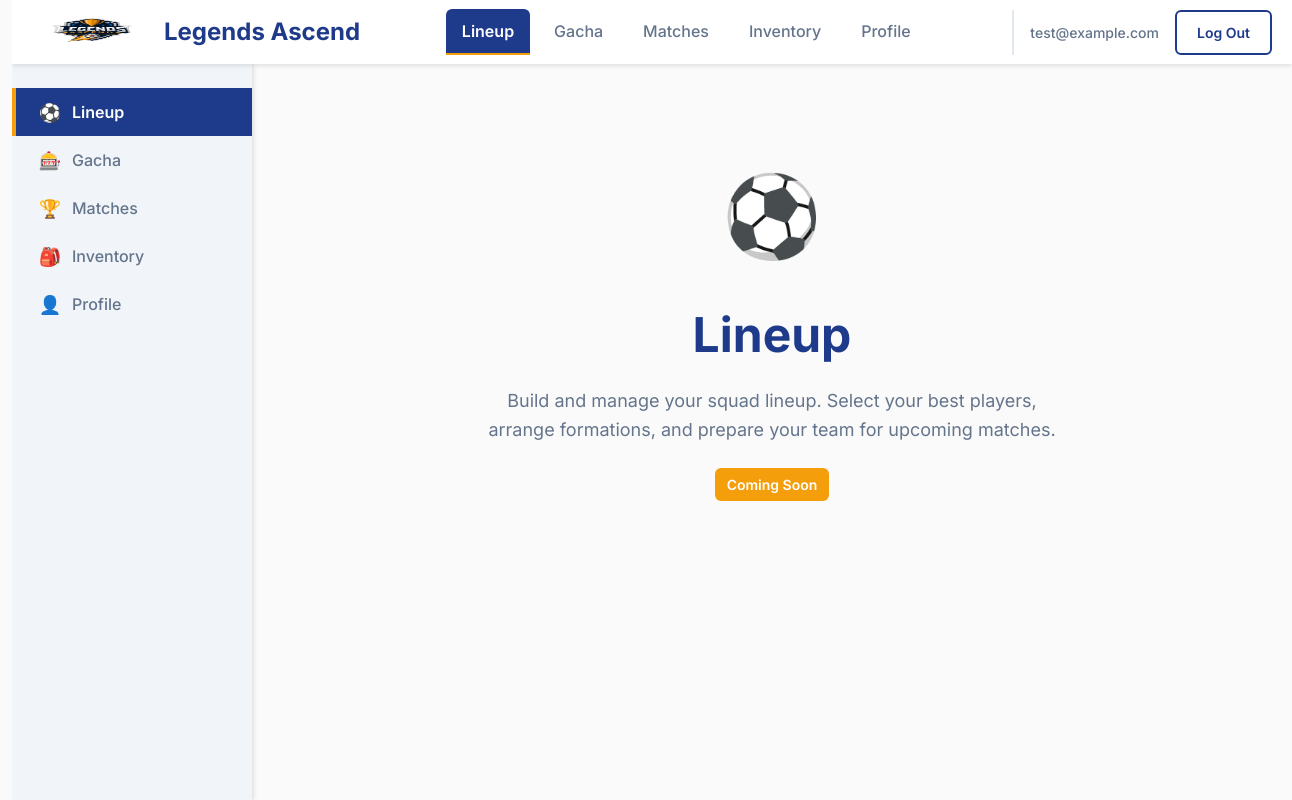
Dashboard Acceptance Tests - PR #137 vs User Story #112 › AC-2: Header Navigation Functions › should navigate to different pages via header navigation links
Expected: the text "Build and manage your squad lineup" is shown, [488,390,1056,440]
Click the button "Gacha": (579, 32) [538,9,619,55]
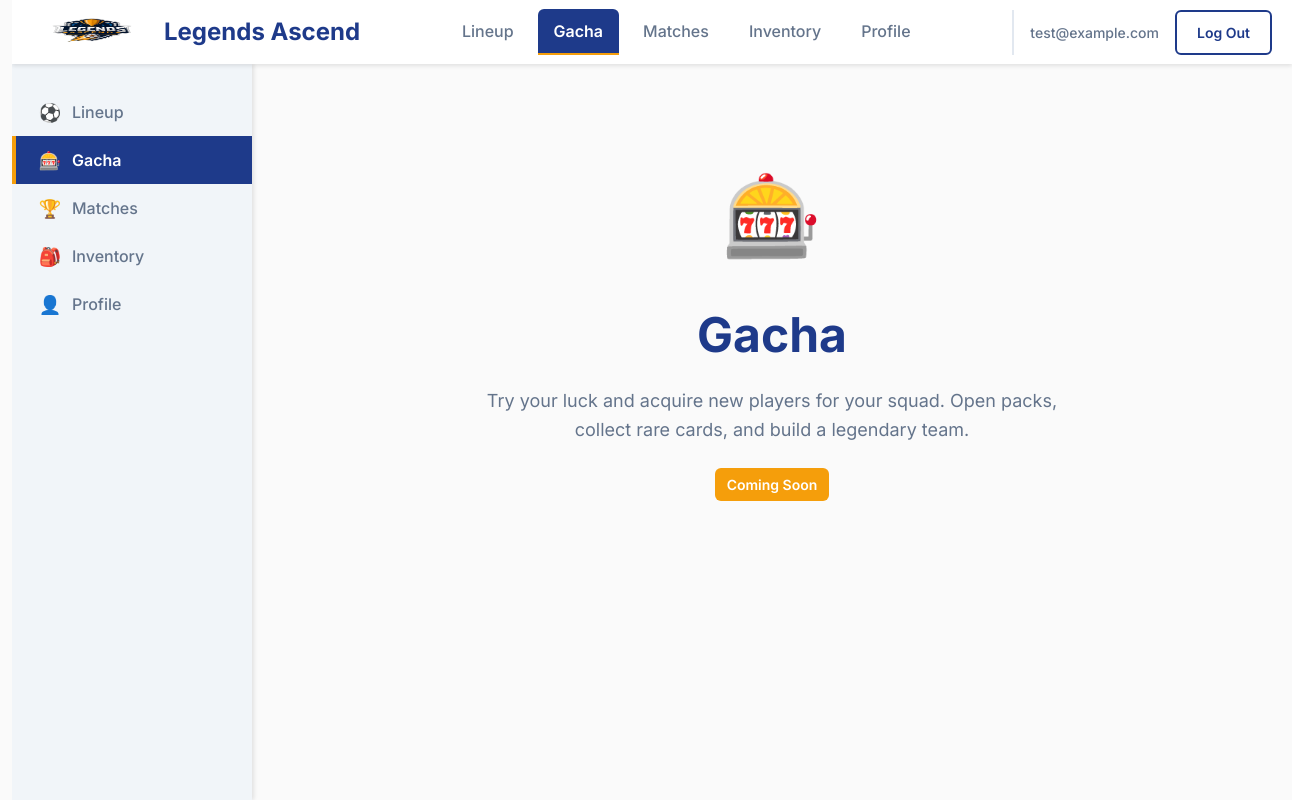
Expected: the text "Try your luck and acquire new players" is shown, [487,390,1057,440]
